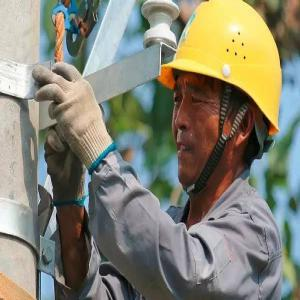yellow: (173, 2, 283, 189)
